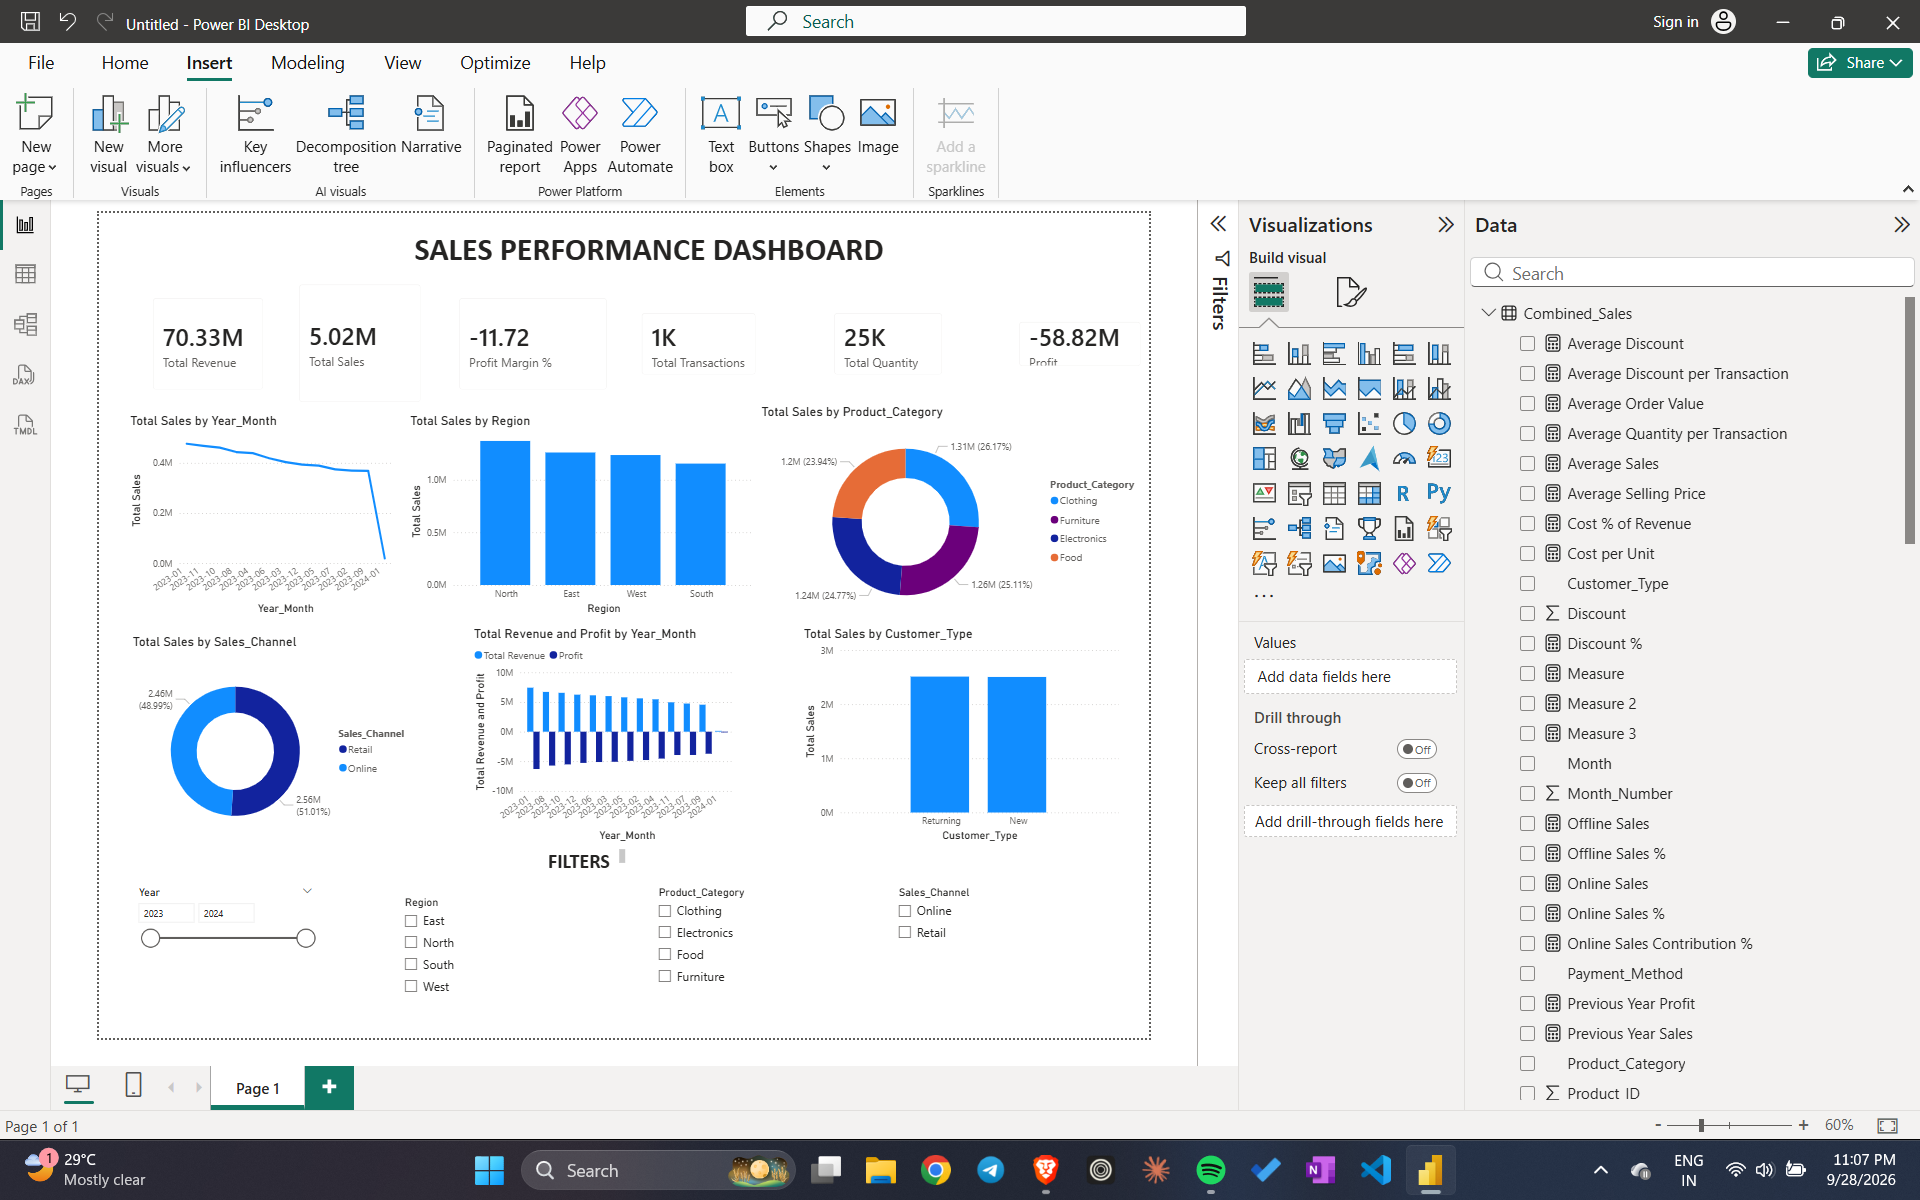

What the dashboard file says about the page in this screenshot:
{"tool":"powerbi","page":{"name":"Page 1","canvas":[1400,1100],"ordinal":0},"visuals":[{"type":"cardVisual","fields":{"Data":["Combined_Sales.Total Sales"]},"box":[250,78.3,196.7,191.7],"z":0},{"type":"cardVisual","fields":{"Data":["Combined_Sales.Total Revenue"]},"box":[55,96.7,181.7,156.7],"z":1},{"type":"cardVisual","fields":{"Data":["Combined_Sales.Profit"]},"box":[1210,128.3,196.7,93.3],"z":2},{"type":"cardVisual","fields":{"Data":["Combined_Sales.Profit Margin %"]},"box":[463.3,96.7,231.7,156.7],"z":3},{"type":"cardVisual","fields":{"Data":["Combined_Sales.Total Quantity"]},"box":[963.3,116.7,178.3,116.7],"z":4},{"type":"cardVisual","fields":{"Data":["Combined_Sales.Total Transactions"]},"box":[706.7,116.7,186.7,116.7],"z":5},{"type":"lineChart","fields":{"Category":["Date Table.Year_Month"],"Y":["Combined_Sales.Total Sales"]},"box":[36.7,266.7,358.3,273.3],"z":6},{"type":"columnChart","fields":{"Category":["Combined_Sales.Region"],"Y":["Combined_Sales.Total Sales"]},"box":[410,266.7,468.3,273.3],"z":7},{"type":"donutChart","fields":{"Category":["Combined_Sales.Product_Category"],"Y":["Combined_Sales.Total Sales"]},"box":[852.2,256.7,521.1,294.4],"z":8},{"type":"donutChart","fields":{"Category":["Combined_Sales.Sales_Channel"],"Y":["Combined_Sales.Total Sales"]},"box":[40,561.7,390,293.3],"z":9},{"type":"clusteredColumnChart","fields":{"Category":["Combined_Sales.Customer_Type"],"Y":["Combined_Sales.Total Sales"]},"box":[935,550,430,293.3],"z":10},{"type":"clusteredColumnChart","fields":{"Category":["Combined_Sales.Year_Month"],"Y":["Combined_Sales.Total Revenue","Combined_Sales.Profit"]},"box":[495,550,356.7,293.3],"z":11},{"type":"slicer","fields":{"Values":["Combined_Sales.Year"]},"box":[40,891.7,256.7,165],"z":12},{"type":"slicer","fields":{"Values":["Combined_Sales.Region"]},"box":[395,905,268.3,150],"z":13},{"type":"slicer","fields":{"Values":["Combined_Sales.Product_Category"]},"box":[733.3,891.7,271.7,165],"z":14},{"type":"slicer","fields":{"Values":["Combined_Sales.Sales_Channel"]},"box":[1053.3,891.7,243.3,146.7],"z":15},{"type":"textbox","box":[60,16.7,1346.7,73.3],"z":17},{"type":"textbox","box":[580,843.3,126.7,40],"z":18}]}

Visuals, with their boxes on the page's 1400x1100 design canvas (x1, y1, x2, y2). These are canvas units, not pixel positions in the 1920x1200 screenshot, which may show the page scaled, cropped or inside an application window:
cardVisual - Combined_Sales.Total Sales: crop(250, 78, 447, 270)
cardVisual - Combined_Sales.Total Revenue: crop(55, 97, 237, 253)
cardVisual - Combined_Sales.Profit: crop(1210, 128, 1407, 222)
cardVisual - Combined_Sales.Profit Margin %: crop(463, 97, 695, 253)
cardVisual - Combined_Sales.Total Quantity: crop(963, 117, 1142, 233)
cardVisual - Combined_Sales.Total Transactions: crop(707, 117, 893, 233)
lineChart - Date Table.Year_Month x Combined_Sales.Total Sales: crop(37, 267, 395, 540)
columnChart - Combined_Sales.Region x Combined_Sales.Total Sales: crop(410, 267, 878, 540)
donutChart - Combined_Sales.Product_Category x Combined_Sales.Total Sales: crop(852, 257, 1373, 551)
donutChart - Combined_Sales.Sales_Channel x Combined_Sales.Total Sales: crop(40, 562, 430, 855)
clusteredColumnChart - Combined_Sales.Customer_Type x Combined_Sales.Total Sales: crop(935, 550, 1365, 843)
clusteredColumnChart - Combined_Sales.Year_Month x Combined_Sales.Total Revenue: crop(495, 550, 852, 843)
slicer - Combined_Sales.Year: crop(40, 892, 297, 1057)
slicer - Combined_Sales.Region: crop(395, 905, 663, 1055)
slicer - Combined_Sales.Product_Category: crop(733, 892, 1005, 1057)
slicer - Combined_Sales.Sales_Channel: crop(1053, 892, 1297, 1038)
textbox: crop(60, 17, 1407, 90)
textbox: crop(580, 843, 707, 883)
